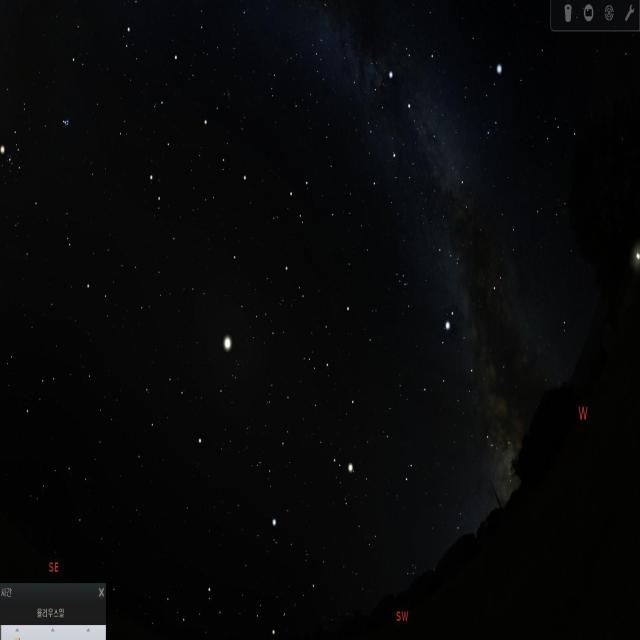aquila: (426, 310, 506, 450)
cygnus: (382, 49, 468, 195)
lyra: (482, 64, 506, 149)
pleiades: (56, 108, 74, 144)
